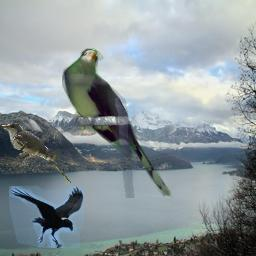Crow: (9, 186, 84, 248)
Cuckoo: (62, 48, 178, 198), (1, 123, 71, 183)
